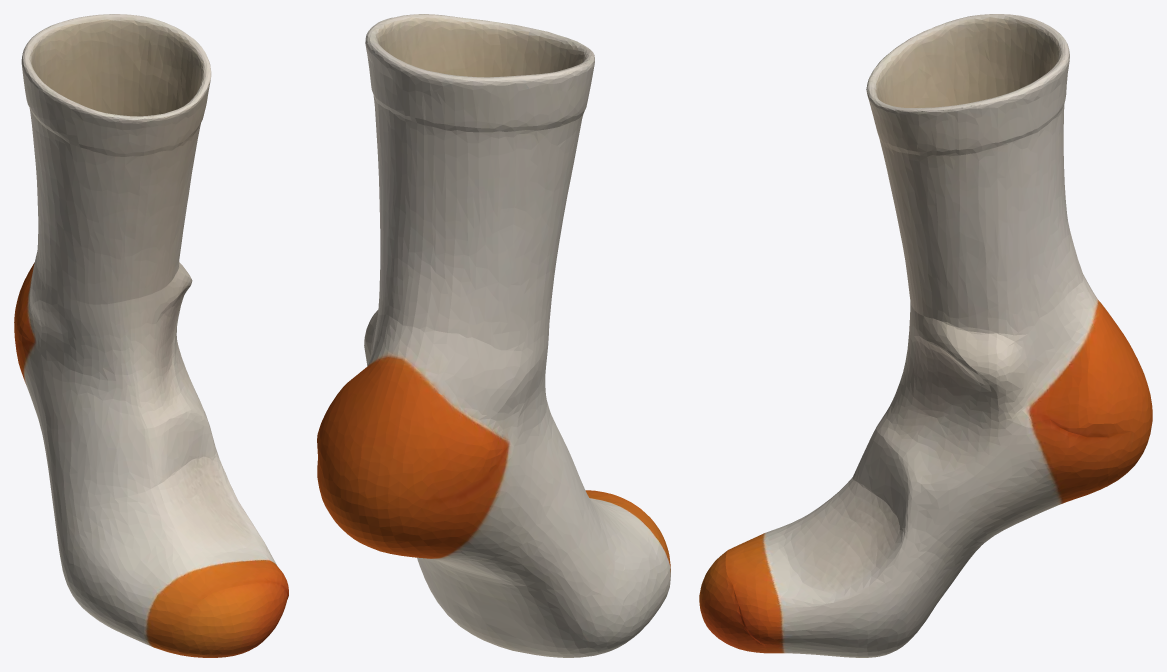
The model's file is sock.glb.
3 views of the same model, side by side, from view 1: azimuth 30°, elevation 25°; view 2: azimuth 150°, elevation 25°; view 3: azimuth 270°, elevation 25° (orthographic). The views are drawn at different scales.
Visible parts, largest first — view 1: geometry_0; view 2: geometry_0; view 3: geometry_0.
Part boxes in pixels (x1,y1,x2,y2): geometry_0: [14, 14, 288, 657]; geometry_0: [317, 14, 670, 657]; geometry_0: [699, 14, 1152, 657].
Size of the model in its own units: 0.3388 by 0.9998 by 0.7044.
1 material, 1 textured.
